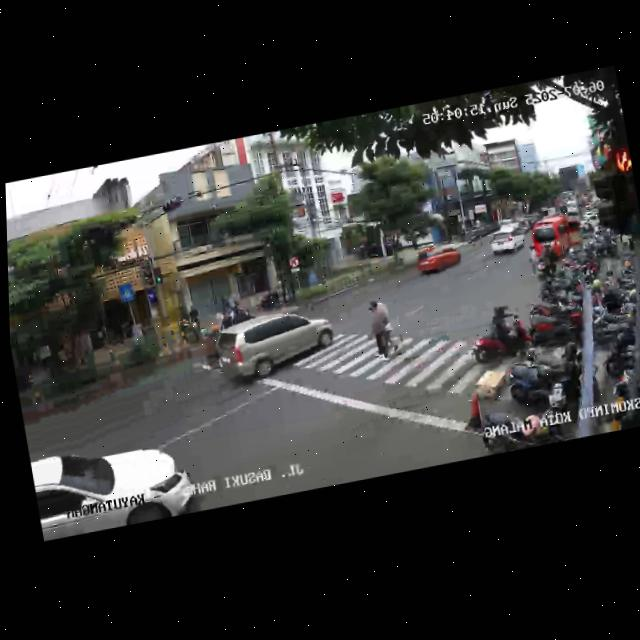car: (32, 432, 202, 541), (212, 301, 339, 392), (529, 211, 587, 265), (415, 242, 466, 281), (487, 224, 532, 260)
motorcycle: (467, 300, 532, 368), (531, 241, 552, 282)
person: (365, 296, 401, 364), (219, 310, 234, 330)
